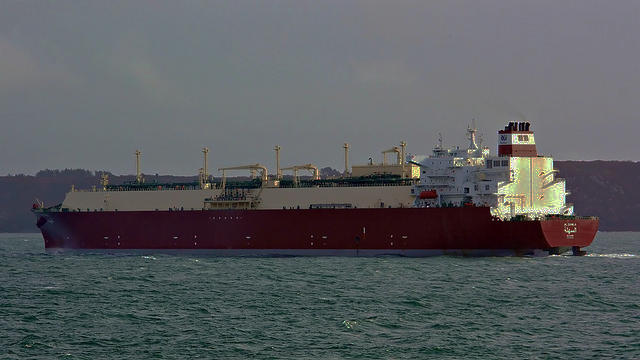LNG_ship: (30, 118, 600, 256)
